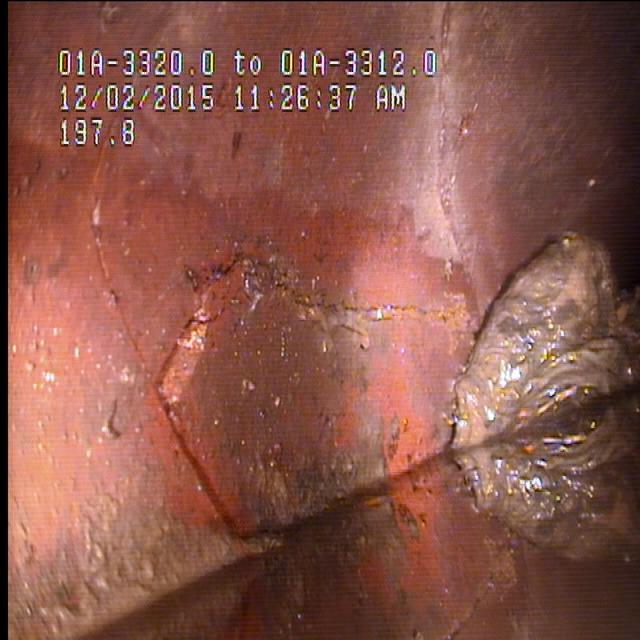Crack: (119, 178, 424, 410)
